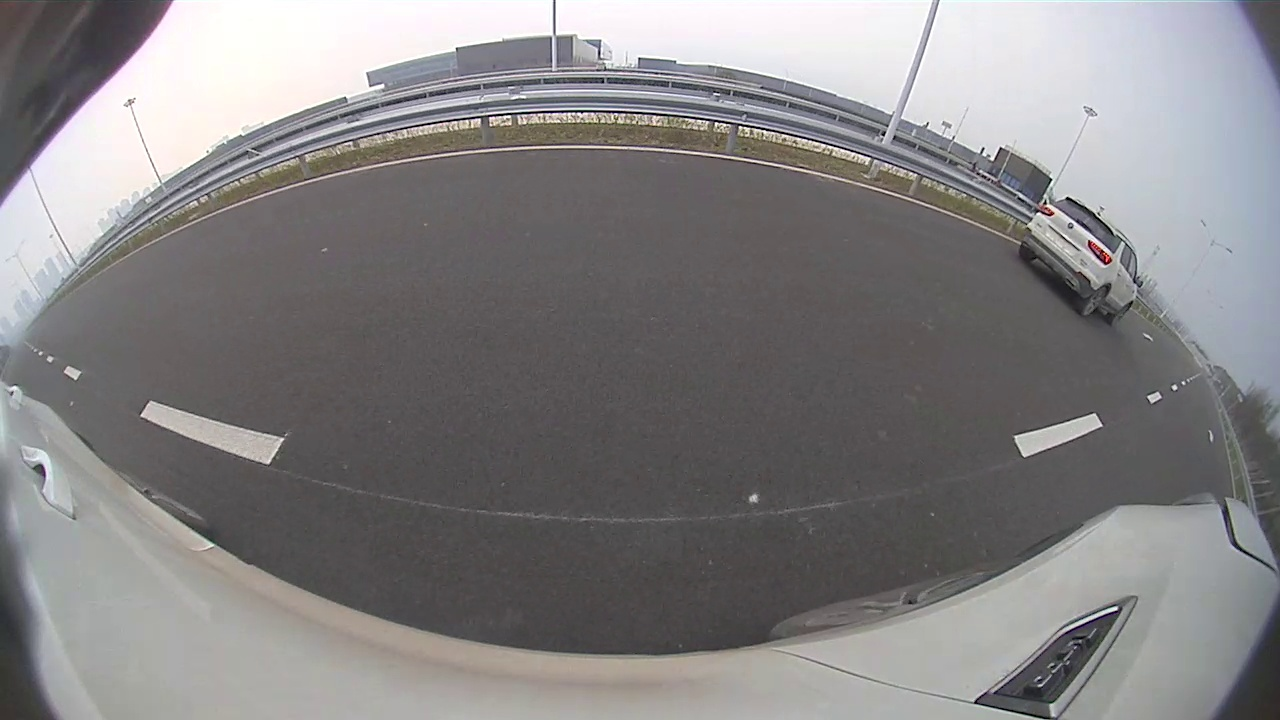car: (1, 129, 428, 540)
front: (359, 217, 419, 297)
rear: (26, 387, 150, 536)
